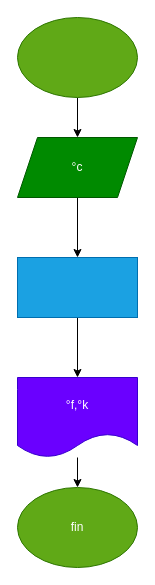
Image size: 155x585. Some labels were removed from this diagram. The box of each missing label's shape, as (x1, y1, x2, y2) in pixels:
inicio: (16, 16, 138, 98)
k=°C-273.15 f=°c*1.8+32: (16, 256, 138, 318)
